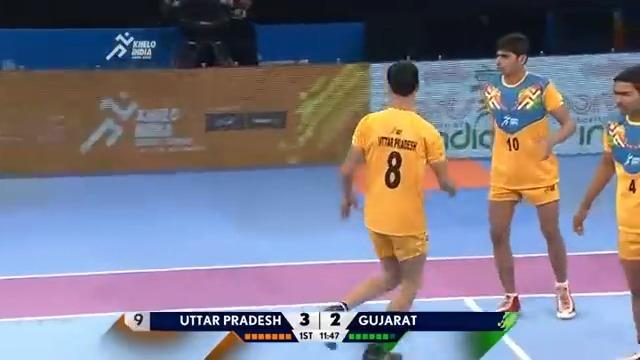Player: (320, 59, 457, 358), (479, 31, 578, 320), (571, 63, 639, 358)
